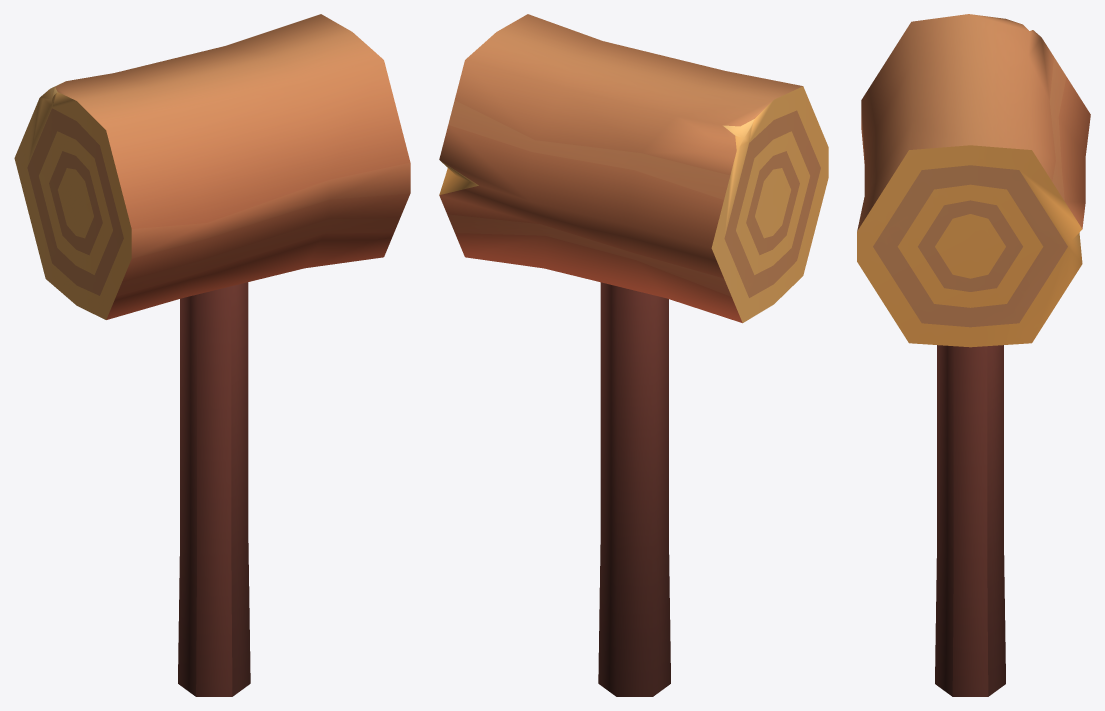
File: WoodenBigAddHammer.fbx
3 renders of one model, left to right at view 1: azimuth 30°, elevation 25°; view 2: azimuth 150°, elevation 25°; view 3: azimuth 270°, elevation 25°, orthographic. The views are drawn at different scales.
Parts seen in each view (by area): view 1: WoodenBigAssHammerHead, WoodenBigAssHammer; view 2: WoodenBigAssHammerHead, WoodenBigAssHammer; view 3: WoodenBigAssHammerHead, WoodenBigAssHammer.
Boxes of the visible parts, left/top/right/bottom form: WoodenBigAssHammerHead: left=14, top=14, right=410, bottom=319; WoodenBigAssHammer: left=178, top=282, right=250, bottom=696; WoodenBigAssHammerHead: left=439, top=14, right=828, bottom=323; WoodenBigAssHammer: left=598, top=282, right=670, bottom=696; WoodenBigAssHammerHead: left=857, top=14, right=1090, bottom=347; WoodenBigAssHammer: left=935, top=345, right=1005, bottom=696.
Bounding box in the file's own units: 72.81 × 155 × 54.44.
